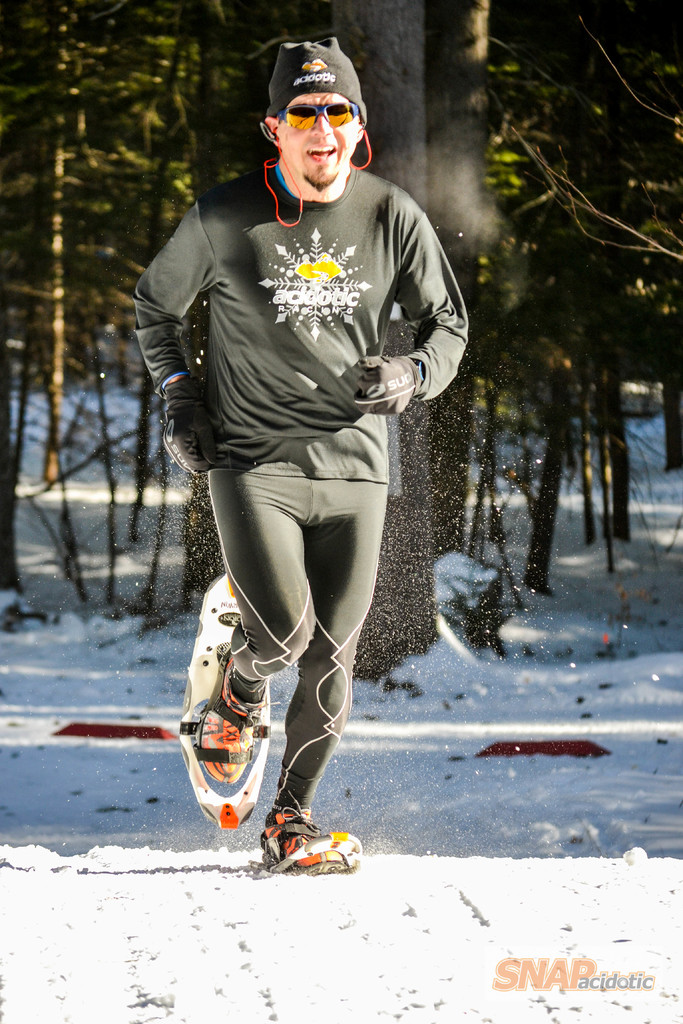Footwear: (193, 660, 256, 779), (247, 826, 356, 877)
